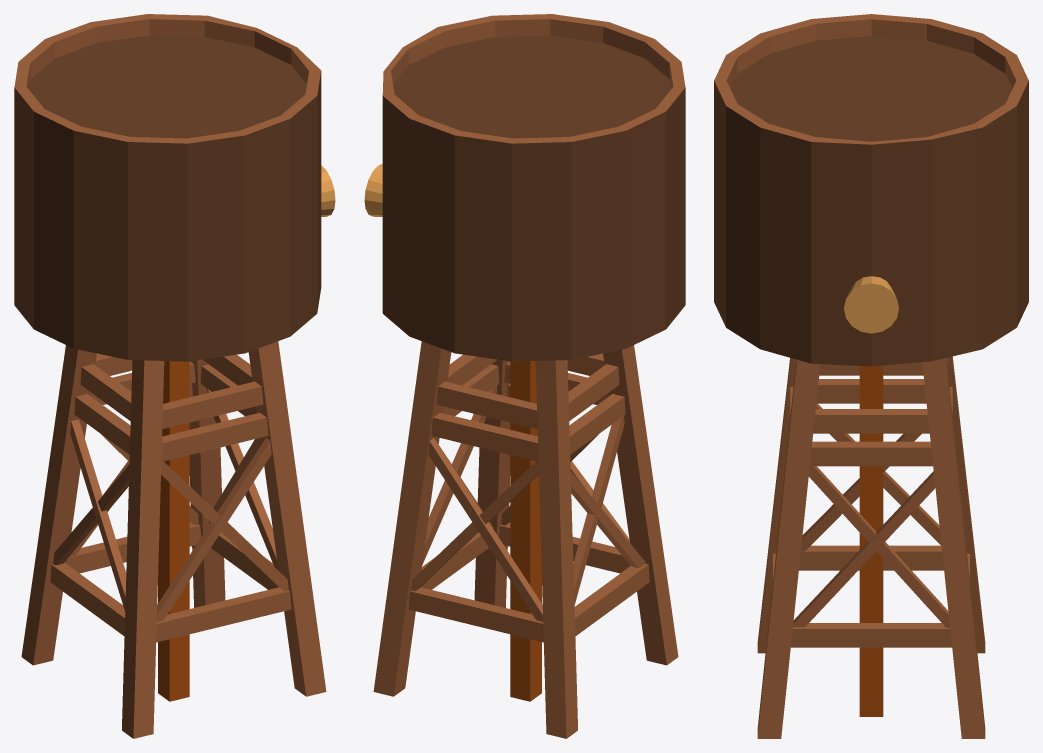
The model's file is Water Tower.fbx.
3 views of the same model, side by side, from view 1: azimuth 30°, elevation 25°; view 2: azimuth 150°, elevation 25°; view 3: azimuth 270°, elevation 25° (orthographic).
Parts seen in each view (by area): view 1: Water Tower; view 2: Water Tower; view 3: Water Tower.
Boxes of the visible parts, x1,y1,x2,y2 form: Water Tower: [14, 14, 335, 738]; Water Tower: [364, 14, 685, 738]; Water Tower: [714, 14, 1028, 738].
Bounding box in the file's own units: 286 × 587 × 266.
